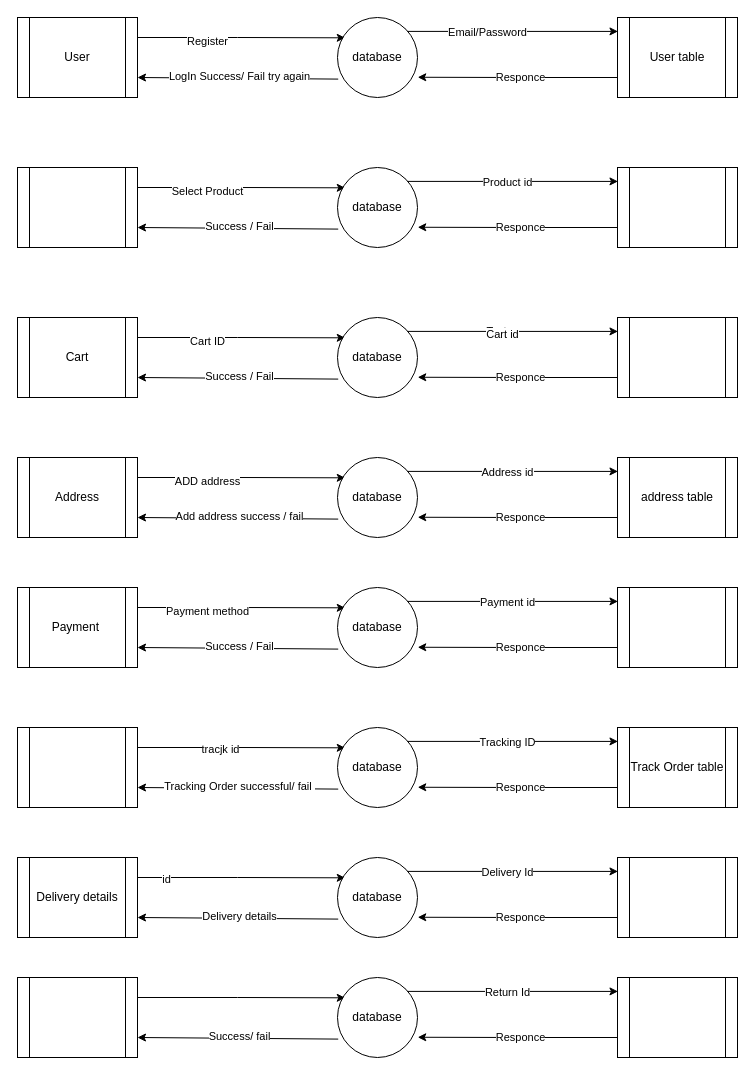
Image size: 755x1075. Some labels were removed from this diagram. The shapes that lost their labels are listed below. From the top down, each one's box as (x1, y1, x2, y2) in pixels, then its label:
(16, 166, 138, 248): Product
(616, 166, 738, 248): Product table
(616, 316, 738, 398): Cart table
(616, 586, 738, 668): Payment table
(16, 726, 138, 808): Track order
(616, 856, 738, 938): Delivery table
(16, 976, 138, 1058): Return Product
(616, 976, 738, 1058): Return table
